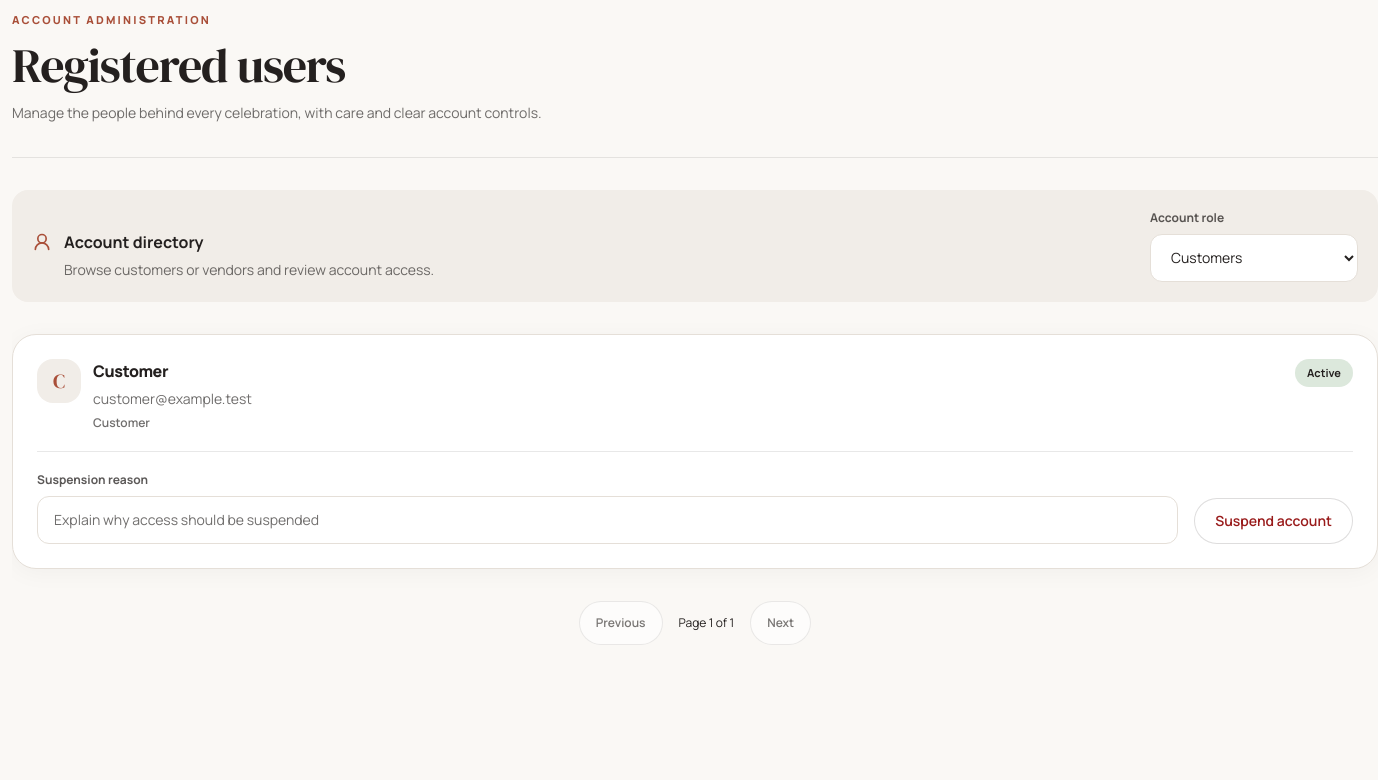
Test: admin user suspension › requires an explanation before suspending an account
Click the button "Suspend account".
click(1274, 520)  # box [1194, 498, 1353, 544]
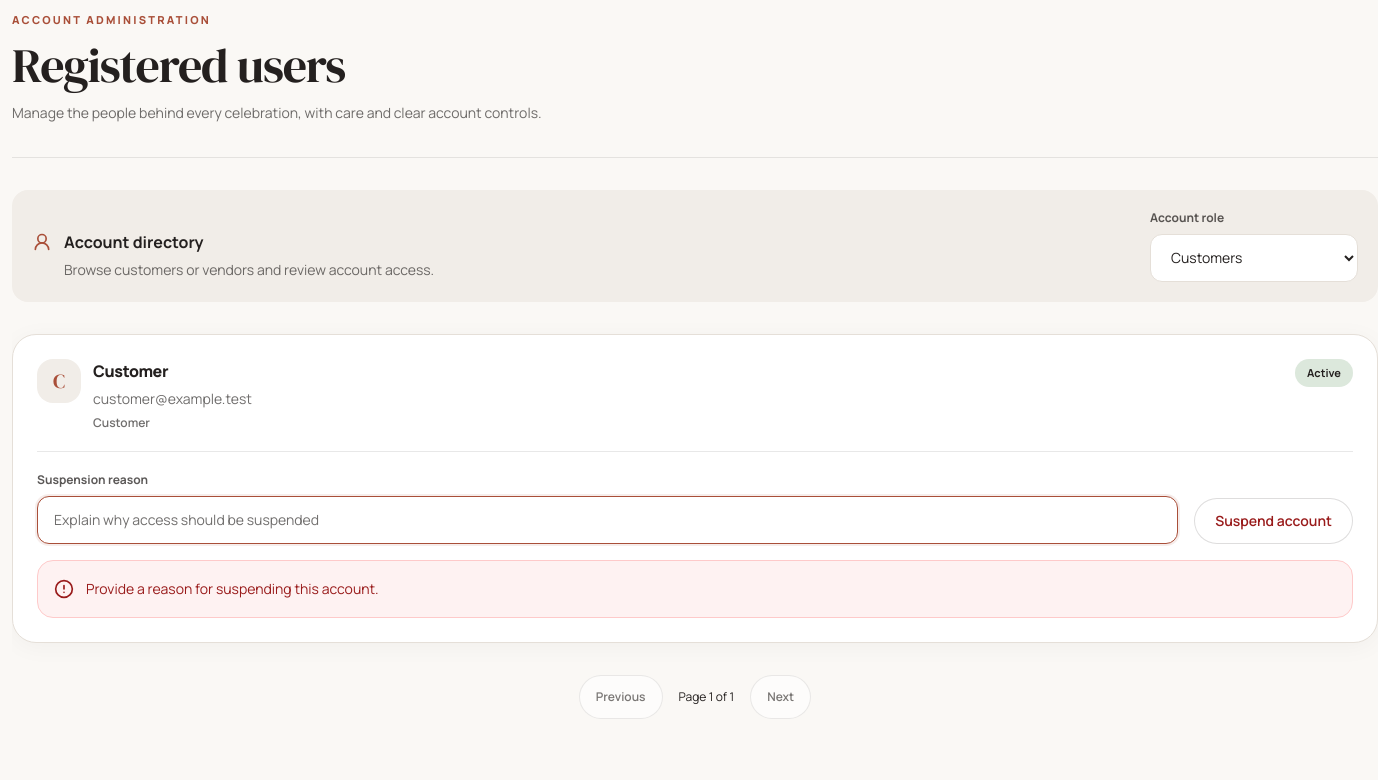
Expected: the message reads "Provide a reason for suspending this account.", [86, 578, 379, 598]
